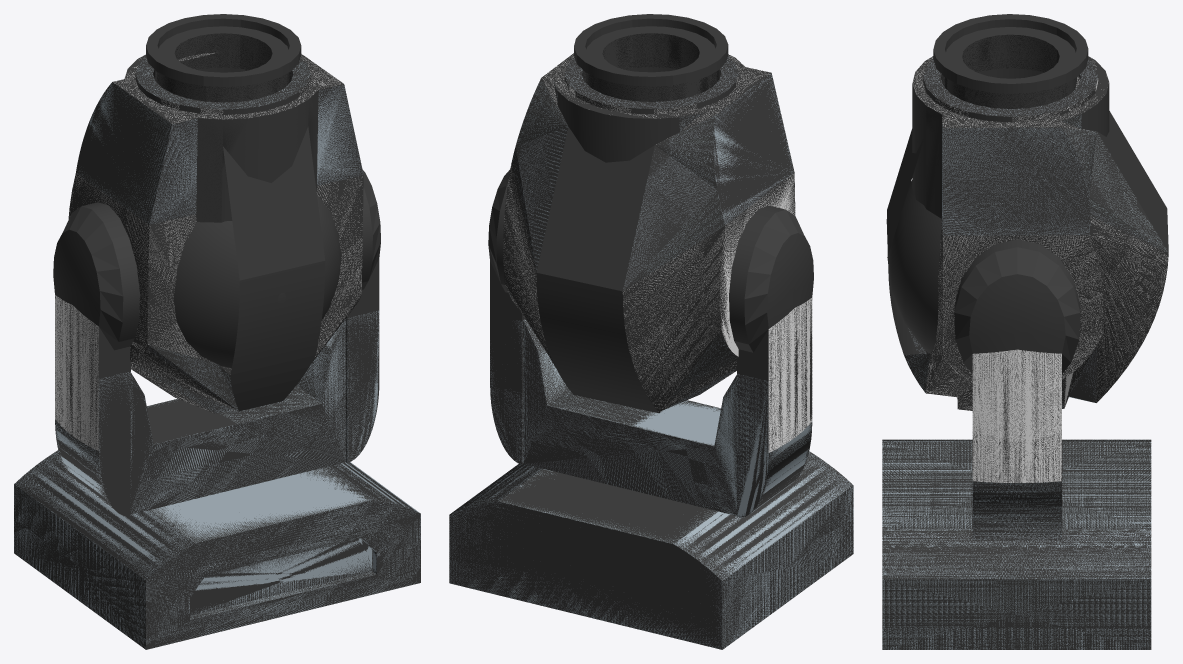
Rendered from ADJ Inno Spot.fbx.
3 views of the same model, side by side, from view 1: azimuth 30°, elevation 25°; view 2: azimuth 150°, elevation 25°; view 3: azimuth 270°, elevation 25° (orthographic). The views are drawn at different scales.
Visible parts, largest first — view 1: Axis_2, Base, ArmBase, SpotLight_Position, Group4, Group5, Group1, Group2; view 2: Axis_2, Base, ArmBase, Group4, Group5, Group2, Group1; view 3: Axis_2, Base, Group1, Group2, SpotLight_Position, ArmBase.
Boxes of the visible parts, x1,y1,x2,y2 form: Axis_2: (68, 14, 363, 413); Base: (14, 450, 420, 649); ArmBase: (55, 310, 379, 516); SpotLight_Position: (173, 194, 341, 367); Group4: (53, 202, 139, 350); Group5: (55, 294, 130, 450); Group1: (361, 170, 380, 289); Group2: (346, 258, 379, 388); Axis_2: (503, 14, 795, 413); Base: (449, 451, 853, 649); ArmBase: (490, 319, 812, 517); Group4: (729, 205, 813, 352); Group5: (737, 297, 812, 452); Group2: (490, 261, 524, 392); Group1: (488, 170, 509, 292); Axis_2: (886, 14, 1168, 410); Base: (882, 439, 1151, 649); Group1: (954, 239, 1080, 373); Group2: (972, 349, 1061, 482); SpotLight_Position: (887, 180, 941, 353); ArmBase: (972, 481, 1061, 540).
Bounding box in the file's own units: 24.15 × 42.02 × 20.38.
